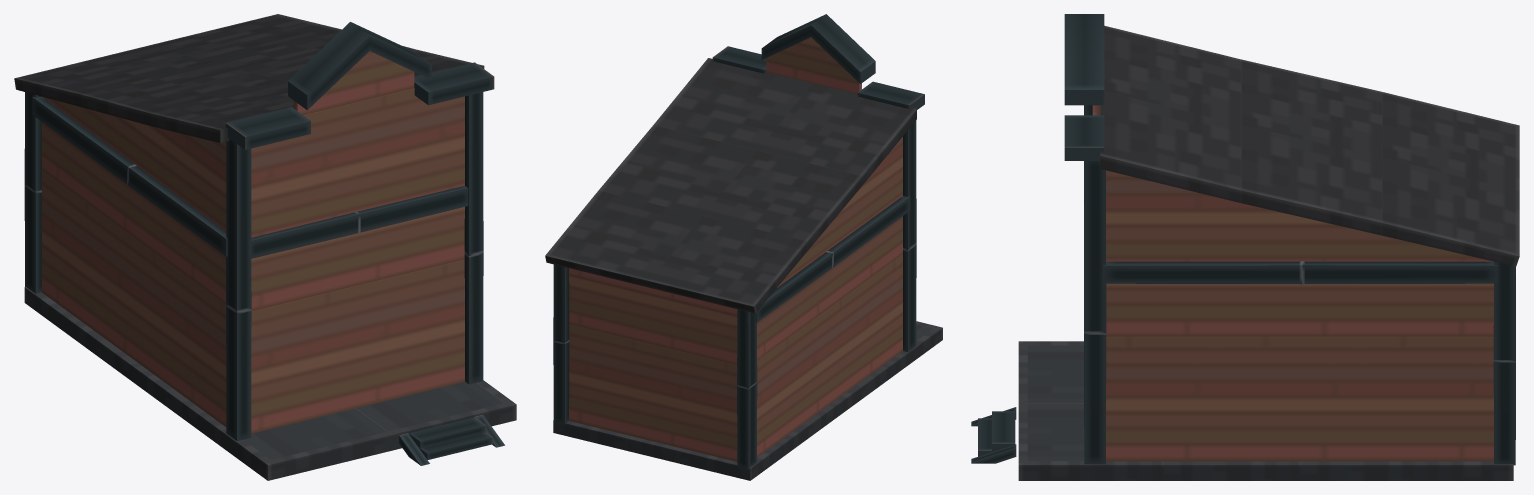
File: house_v4_blank_ncl1_4.fbx
3 views of the same model, side by side, from view 1: azimuth 30°, elevation 25°; view 2: azimuth 150°, elevation 25°; view 3: azimuth 270°, elevation 25° (orthographic). The views are drawn at different scales.
Visible parts, largest first — view 1: house_v4_blank; view 2: house_v4_blank; view 3: house_v4_blank.
Boxes of the visible parts, x1,y1,x2,y2 form: house_v4_blank: (14, 14, 516, 480); house_v4_blank: (545, 14, 942, 480); house_v4_blank: (971, 14, 1519, 480).
Bounding box in the file's own units: 451 × 651 × 798.
